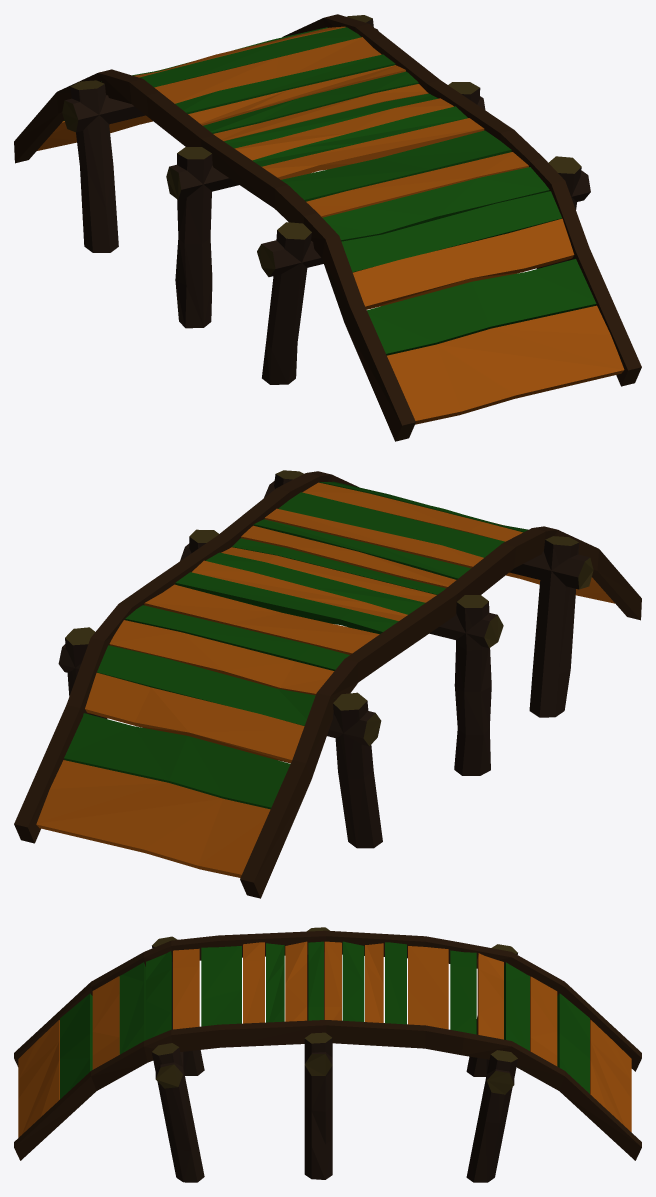
The model's file is brige e.FBX.
3 renders of one model, top to bottom at view 1: azimuth 30°, elevation 25°; view 2: azimuth 150°, elevation 25°; view 3: azimuth 270°, elevation 25°, orthographic. The views are drawn at different scales.
Visible parts, largest first — view 1: brige e; view 2: brige e; view 3: brige e.
Part boxes in pixels (x1,y1,x2,y2): brige e: (14, 14, 641, 441); brige e: (14, 470, 641, 898); brige e: (14, 927, 641, 1182).
Bounding box in the file's own units: 2.52 × 5.33 × 1.34.
